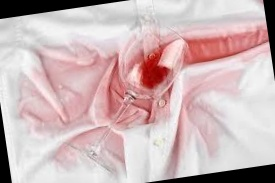wine: (28, 84, 126, 127), (177, 26, 268, 63), (50, 53, 108, 100)
